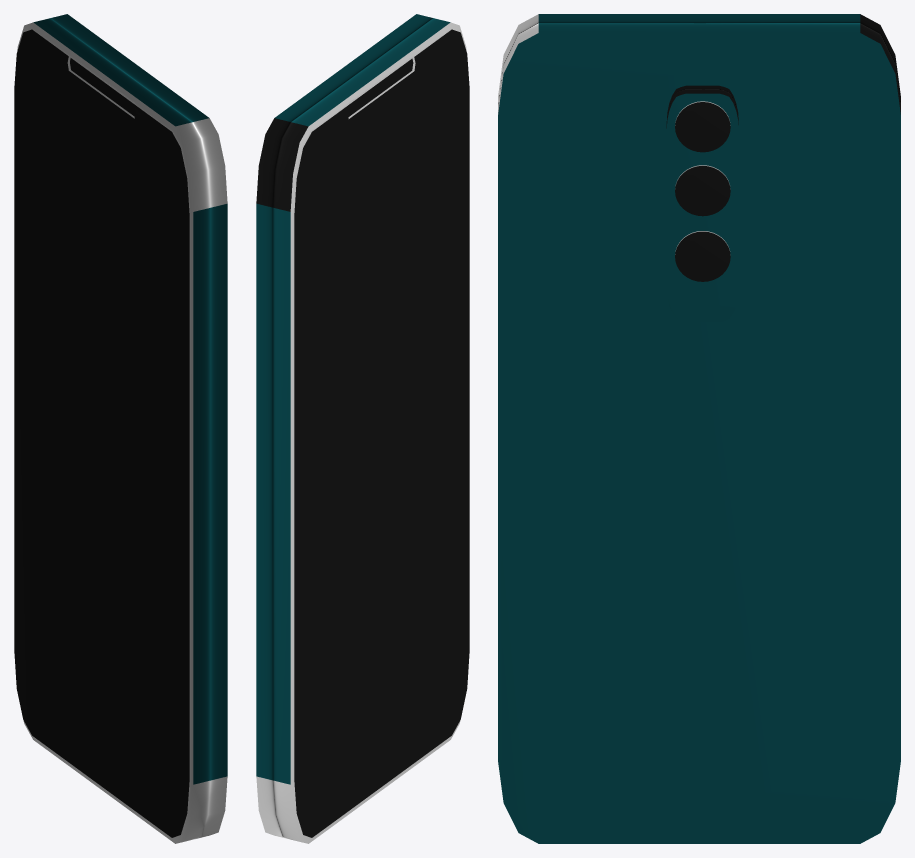
Rendered from celular.glb.
3 views of the same model, side by side, from view 1: azimuth 30°, elevation 25°; view 2: azimuth 150°, elevation 25°; view 3: azimuth 270°, elevation 25° (orthographic). The views are drawn at different scales.
Parts seen in each view (by area): view 1: Cubo.022; view 2: Cubo.022; view 3: Cubo.022.
Part boxes in pixels (x1=…): Cubo.022: x1=14, y1=14, x2=227, y2=843; Cubo.022: x1=256, y1=14, x2=469, y2=843; Cubo.022: x1=498, y1=14, x2=900, y2=843.
Bounding box in the file's own units: 0.1011 × 1.33 × 0.5992.
